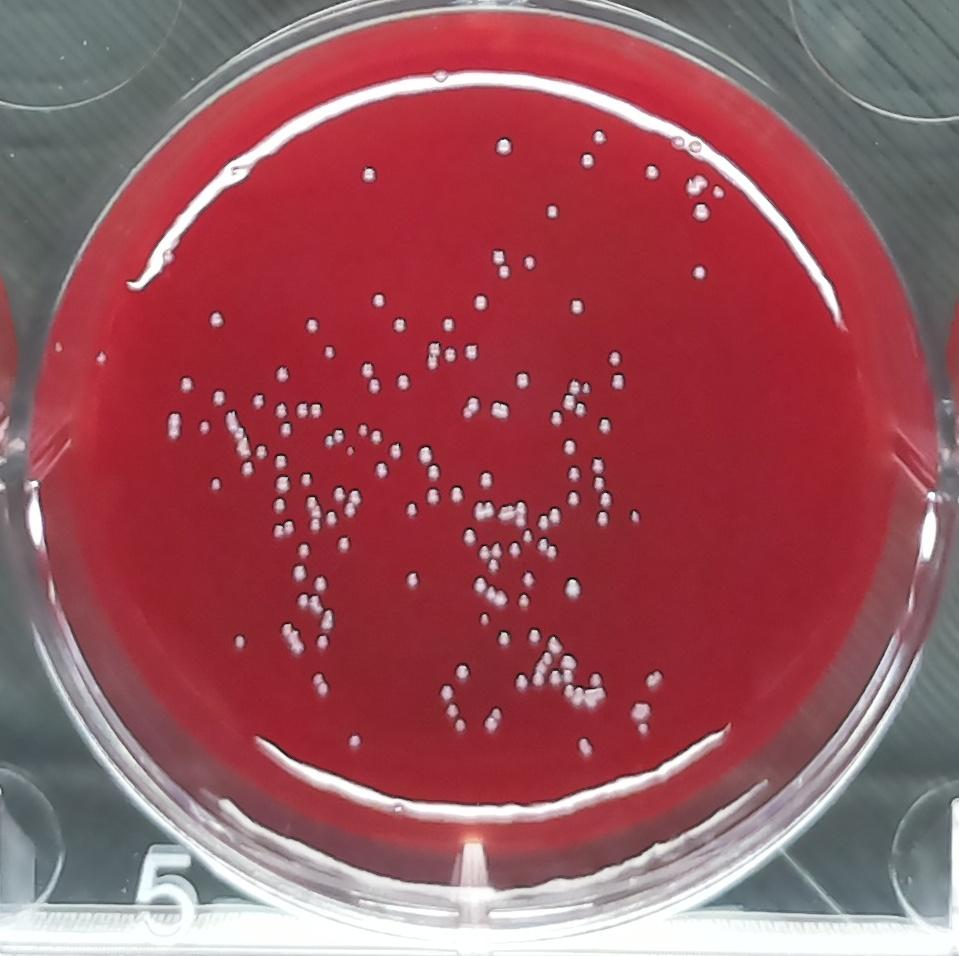staphylo-: (223, 408, 252, 457), (471, 575, 509, 609), (279, 619, 307, 660), (563, 686, 608, 710), (531, 650, 553, 687), (304, 493, 323, 535), (458, 393, 483, 423), (685, 171, 709, 199), (166, 408, 184, 444), (627, 699, 654, 723), (561, 575, 584, 603), (423, 340, 443, 371), (483, 704, 503, 734), (690, 199, 713, 225), (488, 399, 512, 423), (472, 499, 496, 523), (491, 134, 514, 159), (309, 670, 329, 698), (303, 314, 324, 340), (577, 150, 599, 173), (470, 290, 492, 313), (357, 163, 379, 186), (270, 519, 295, 539), (589, 126, 610, 149), (452, 661, 473, 684), (549, 669, 575, 687), (576, 734, 594, 760), (546, 633, 566, 656), (319, 605, 336, 632), (543, 200, 562, 224), (568, 295, 587, 319), (459, 526, 478, 550), (477, 468, 495, 493), (404, 568, 422, 593), (688, 263, 709, 284), (520, 251, 539, 274), (514, 370, 533, 393), (463, 340, 481, 364), (416, 443, 434, 467), (273, 473, 293, 494), (644, 668, 664, 689), (273, 363, 292, 385), (394, 371, 413, 393), (643, 161, 661, 184), (176, 374, 196, 394), (439, 313, 458, 334), (547, 408, 565, 430), (525, 625, 543, 647), (335, 533, 353, 555), (207, 473, 225, 495), (610, 371, 627, 394), (291, 562, 308, 585), (309, 594, 325, 618), (369, 289, 387, 310), (489, 246, 507, 267), (442, 344, 460, 365), (497, 503, 515, 524), (272, 451, 290, 472), (210, 387, 228, 408), (231, 631, 248, 653), (314, 632, 331, 654), (238, 457, 255, 479), (250, 390, 267, 412), (448, 483, 465, 505), (512, 670, 528, 693), (374, 459, 390, 482), (564, 489, 582, 509), (594, 510, 612, 530), (506, 540, 524, 560), (388, 438, 403, 462), (209, 309, 226, 330), (312, 573, 329, 594), (368, 426, 385, 447), (403, 499, 420, 520), (445, 699, 462, 720), (392, 315, 408, 337), (365, 376, 383, 395), (561, 437, 578, 457), (253, 441, 270, 461), (426, 463, 443, 483), (711, 181, 727, 202), (607, 348, 623, 369), (561, 392, 577, 413), (519, 569, 535, 590), (496, 628, 512, 649), (347, 486, 363, 507), (426, 486, 442, 507), (547, 505, 562, 527), (587, 671, 605, 689), (572, 401, 589, 420), (270, 496, 287, 515), (590, 455, 606, 475), (590, 473, 606, 493), (486, 558, 502, 578), (296, 540, 312, 560), (323, 509, 339, 529), (598, 415, 613, 436), (475, 542, 490, 563), (323, 341, 337, 363), (360, 359, 374, 381), (341, 501, 358, 519), (496, 263, 512, 282), (298, 470, 314, 489), (567, 464, 582, 484), (516, 591, 531, 611), (294, 399, 309, 419), (599, 490, 613, 511), (440, 681, 454, 702), (93, 350, 110, 367), (561, 653, 577, 671), (278, 420, 294, 438), (347, 731, 362, 750), (536, 513, 550, 533), (490, 540, 504, 560), (274, 401, 288, 421), (310, 400, 324, 420), (295, 591, 309, 610), (332, 484, 346, 503), (567, 377, 581, 395), (477, 611, 491, 629), (198, 418, 212, 436), (629, 507, 642, 526), (516, 498, 529, 517), (453, 717, 467, 734), (536, 536, 549, 554), (333, 427, 346, 445), (580, 380, 594, 396), (519, 528, 533, 544), (547, 544, 559, 561), (323, 433, 334, 451), (636, 723, 651, 736), (357, 422, 369, 438), (344, 443, 356, 458)
